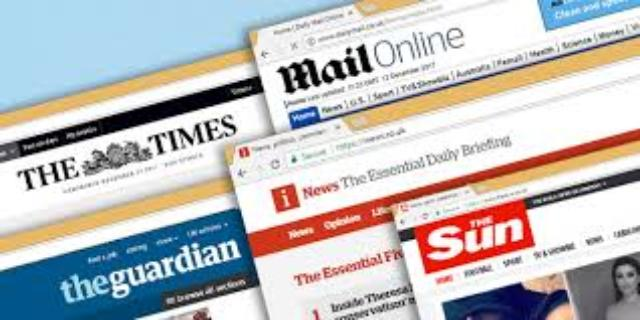cardboard paper: (0, 0, 636, 314)
